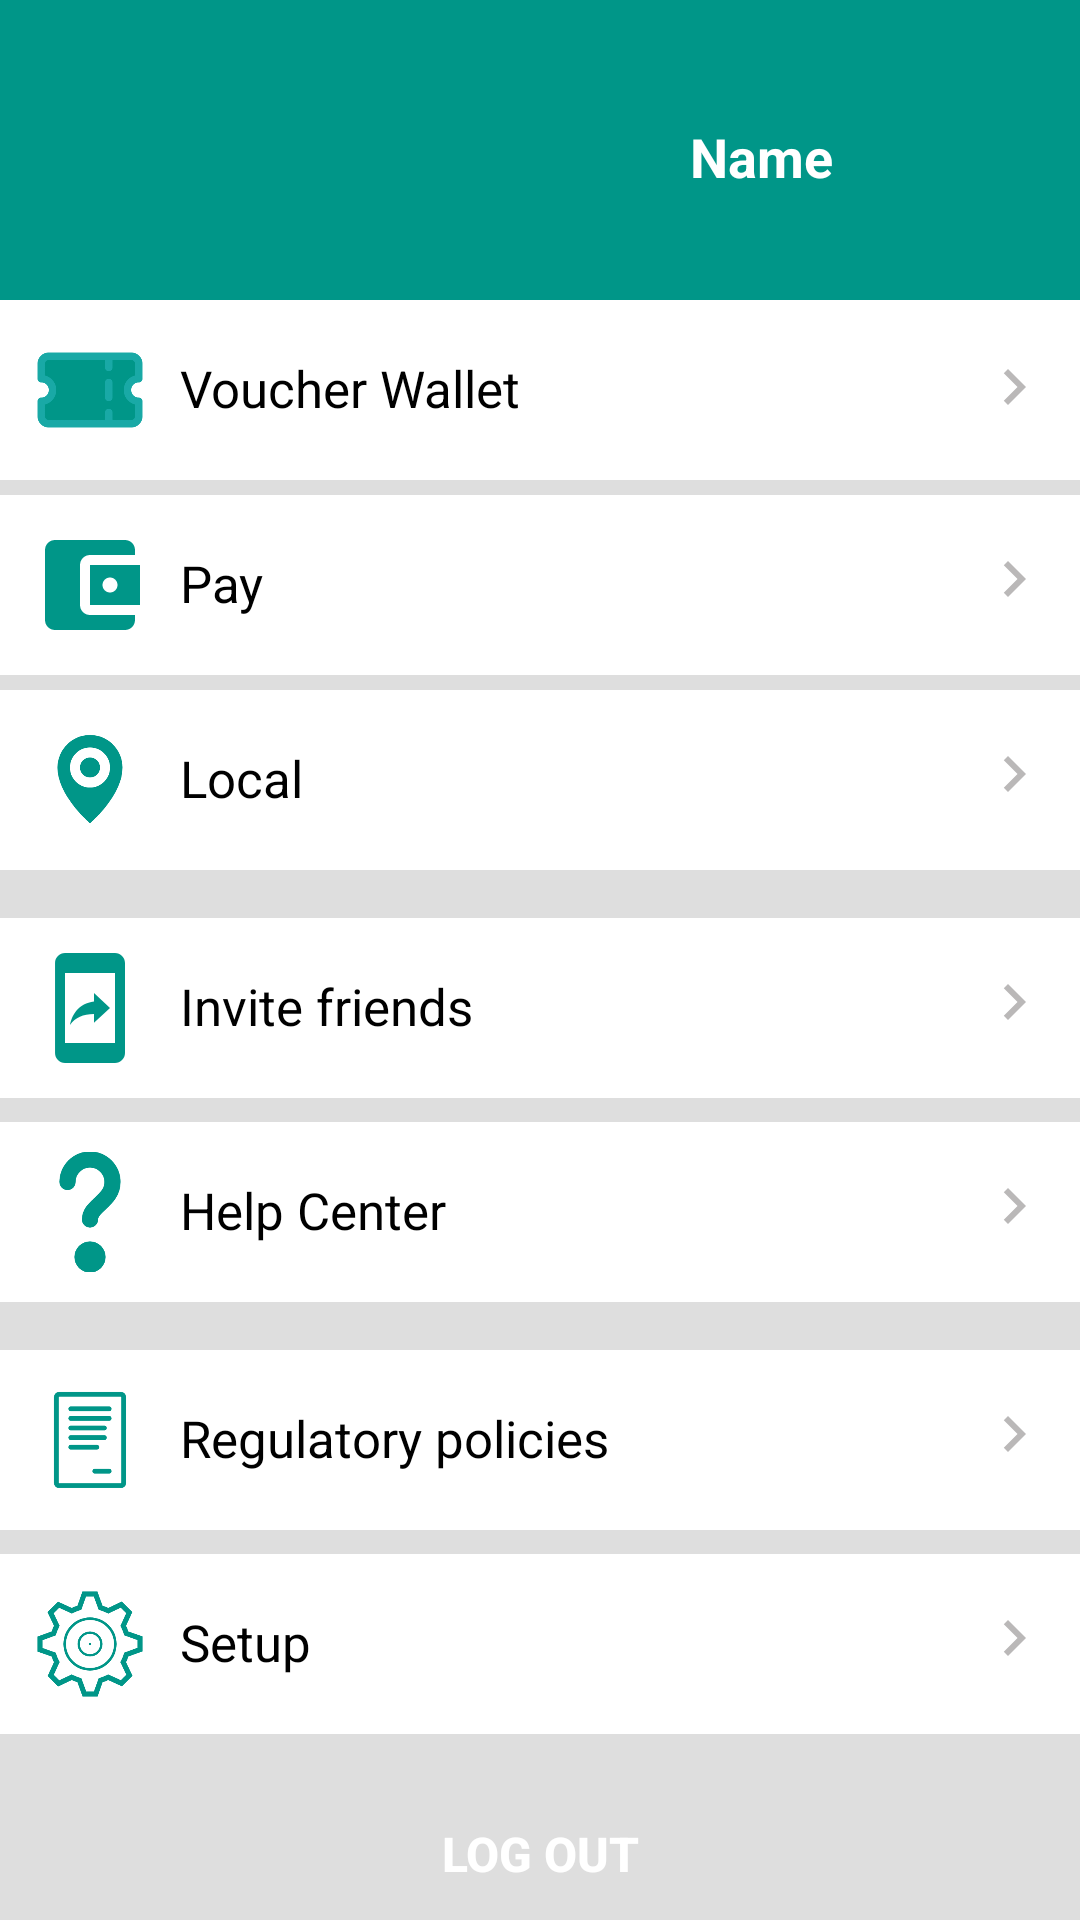

Icon bounding boxes for this 1080w x 1920h phone screenshot, format region(x1, y1, x2, y2):
ask: region(59, 1152, 121, 1272)
navigate next: region(1004, 369, 1026, 405), region(1004, 561, 1026, 597), region(1004, 756, 1026, 792), region(1004, 984, 1026, 1020), region(1004, 1188, 1026, 1224), region(1004, 1416, 1026, 1452), region(1004, 1620, 1026, 1656)
policy: region(54, 1392, 126, 1488)
